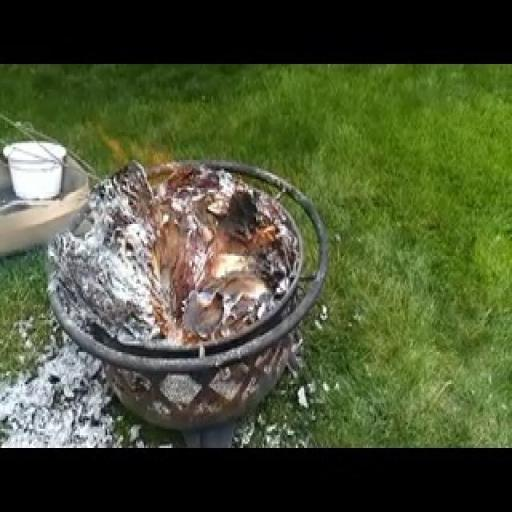smoke: (129, 228, 236, 354)
